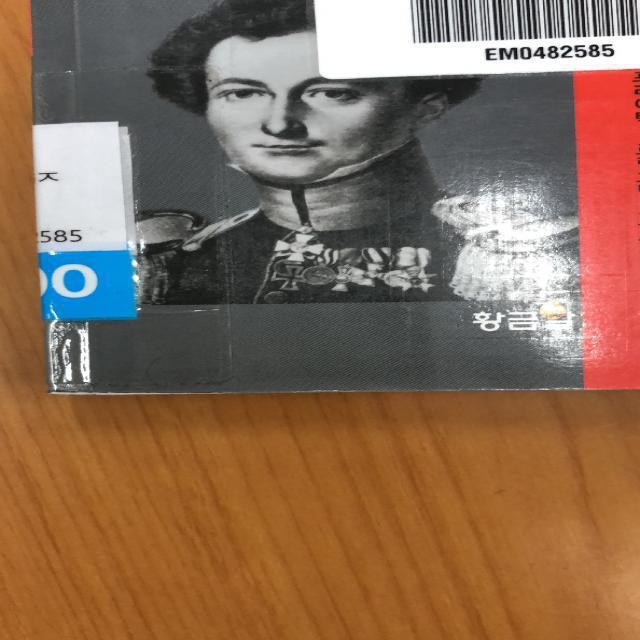Wornout: (44, 387, 246, 402), (444, 384, 614, 399), (278, 384, 381, 399)
